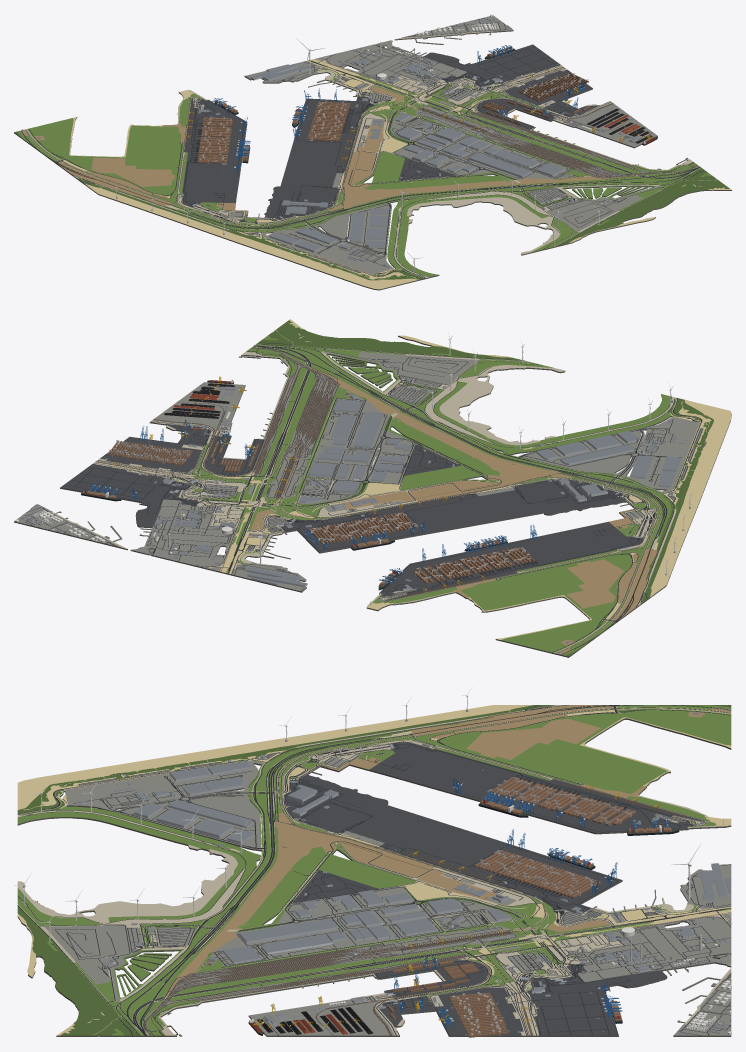
The model's file is port.glb.
3 views of the same model, one above another, from view 1: azimuth 30°, elevation 25°; view 2: azimuth 150°, elevation 25°; view 3: azimuth 270°, elevation 25° (orthographic). The views are drawn at different scales.
Visible parts, largest first — view 1: land, buildings, stacks_coarse; view 2: land, buildings, stacks_coarse, ships; view 3: land, buildings, stacks_coarse, ships.
Part boxes in pixels (<box>): land: <box>14,15,731,290</box>; buildings: <box>22,18,659,270</box>; stacks_coarse: <box>197,47,590,163</box>; land: <box>14,319,731,657</box>; buildings: <box>21,359,700,654</box>; stacks_coarse: <box>82,425,535,586</box>; ships: <box>81,379,507,590</box>; land: <box>17,705,731,1036</box>; buildings: <box>75,706,731,1035</box>; stacks_coarse: <box>387,776,671,1037</box>; ships: <box>248,799,679,1035</box>.
Size of what is drawn, in the model's own units: 5526 by 396 by 5039.
